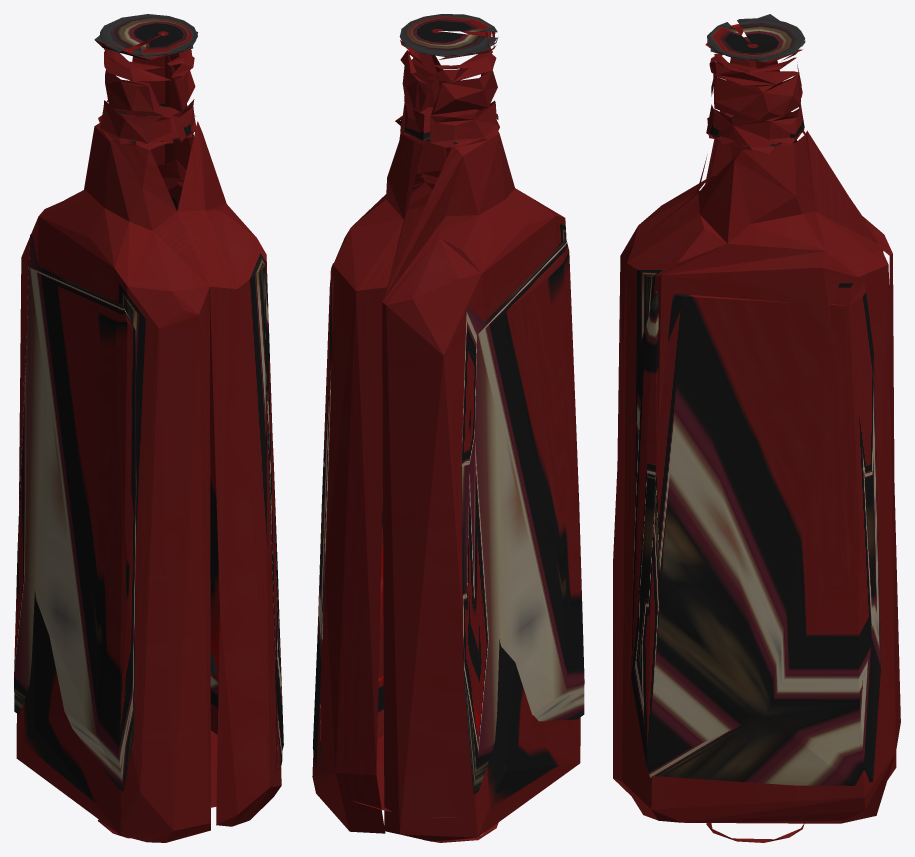
Rendered from food_beverage_ginBottle_b01.glb.
3 renders of one model, left to right at view 1: azimuth 30°, elevation 25°; view 2: azimuth 150°, elevation 25°; view 3: azimuth 270°, elevation 25°, orthographic.
Visible parts, largest first — view 1: geometry_0; view 2: geometry_0; view 3: geometry_0.
Boxes of the visible parts, x1=… form: geometry_0: x1=14, y1=14, x2=283, y2=842; geometry_0: x1=312, y1=14, x2=584, y2=842; geometry_0: x1=613, y1=14, x2=900, y2=842.
Bounding box in the file's own units: 0.0961 × 0.42 × 0.1395.
1 material, 1 textured.
